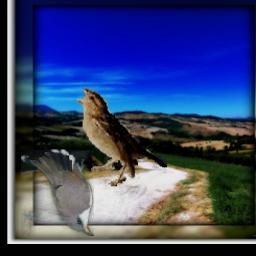Cuckoo: (21, 150, 94, 237)
Sparrow: (77, 87, 167, 187)
